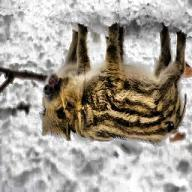boar: (41, 23, 192, 147)
